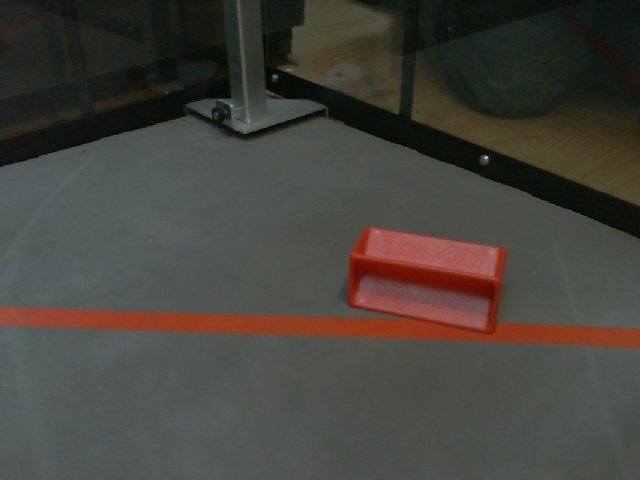RedSample: (345, 221, 510, 335)
